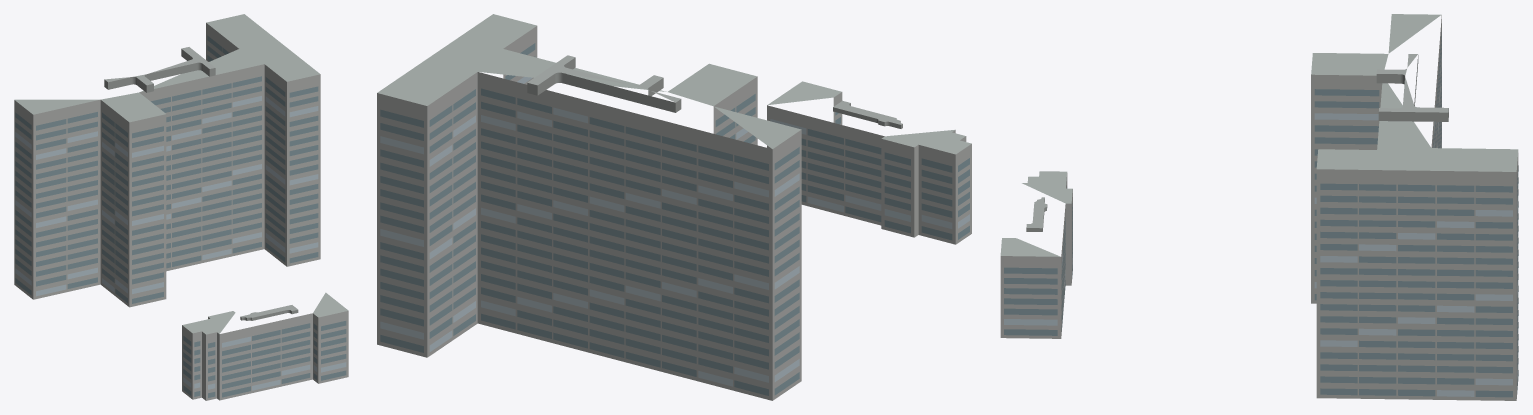
Rendered from apt-a13185502.glb.
The picture shows the model from 3 angles, left to right: view 1: azimuth 30°, elevation 25°; view 2: azimuth 150°, elevation 25°; view 3: azimuth 270°, elevation 25°; orthographic projection. The views are drawn at different scales.
Parts seen in each view (by area): view 1: apt-a13185502; view 2: apt-a13185502; view 3: apt-a13185502.
Part boxes in pixels (left/top/right/bottom): apt-a13185502: left=14, top=14, right=348, bottom=400; apt-a13185502: left=377, top=14, right=971, bottom=400; apt-a13185502: left=1000, top=14, right=1518, bottom=400.
Size of the model in its own units: 86.77 by 61 by 120.
